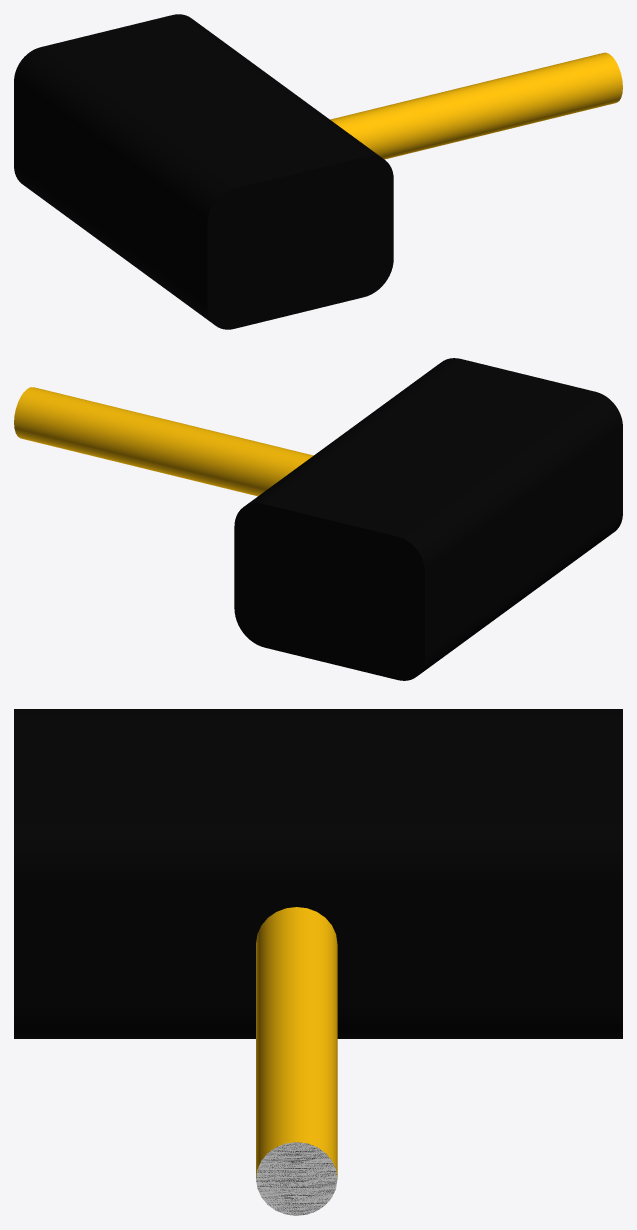
Rendered from mallet_04_origin_gt_1.dae.
3 views of the same model, one above another, from view 1: azimuth 30°, elevation 25°; view 2: azimuth 150°, elevation 25°; view 3: azimuth 270°, elevation 25° (orthographic). The views are drawn at different scales.
Visible parts, largest first — view 1: Mallet (×2); view 2: Mallet (×2); view 3: Mallet (×3).
Boxes of the visible parts, x1=… form: Mallet (×2): x1=14, y1=14, x2=622, y2=329; Mallet (×2): x1=14, y1=358, x2=622, y2=680; Mallet (×3): x1=14, y1=709, x2=622, y2=1215.
Bounding box in the file's own units: 9.8 × 6.67 × 2.67.
